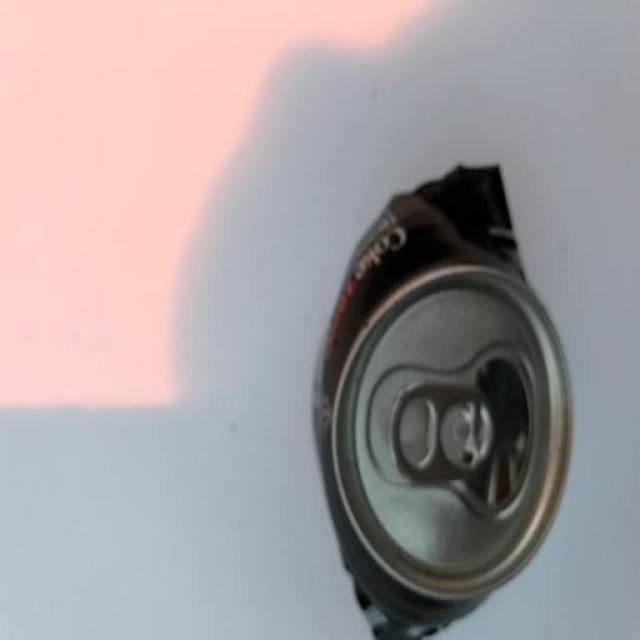metel: (256, 142, 575, 640)
